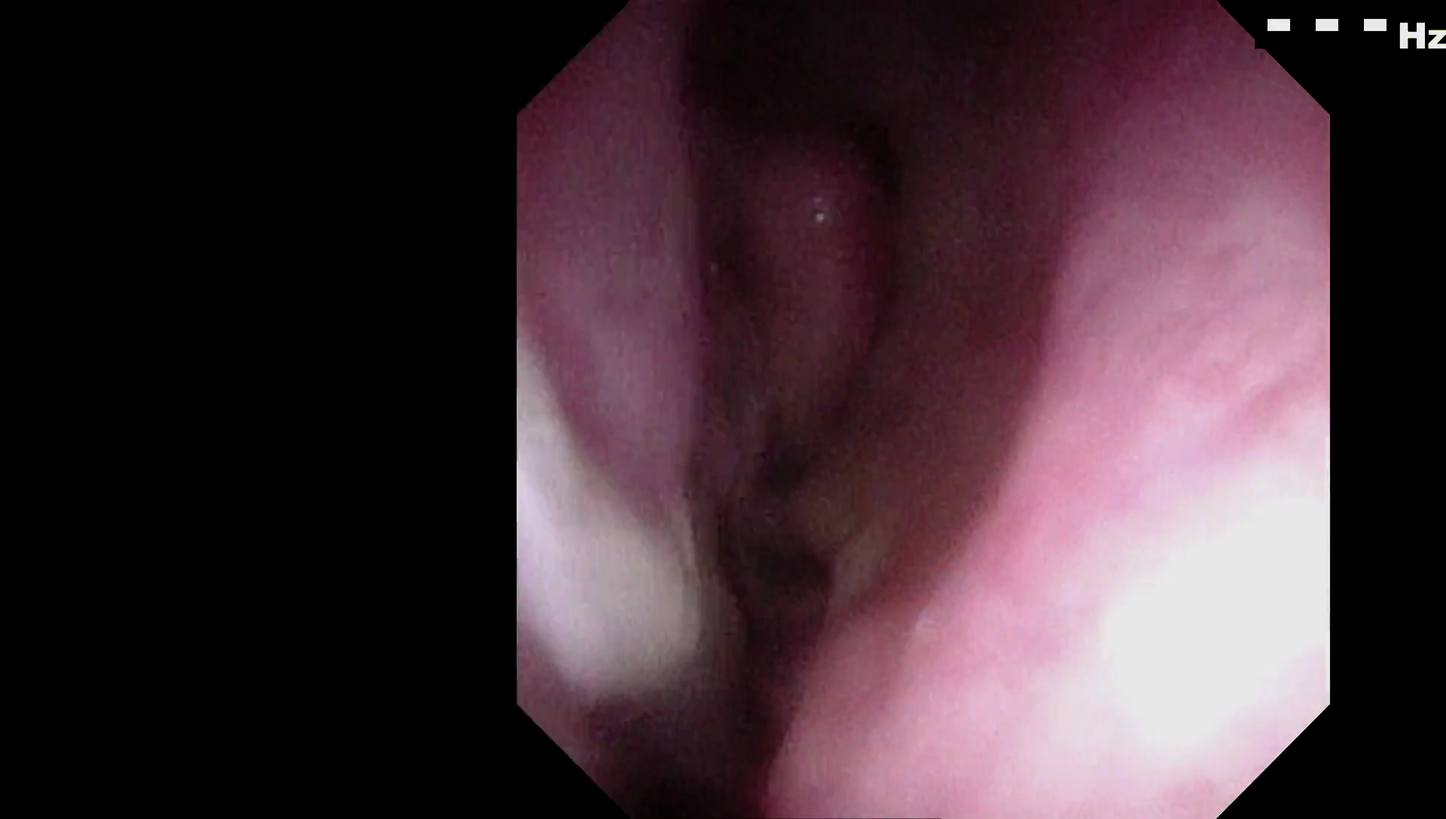close_wall: (867, 346, 1308, 721)
next: (638, 22, 934, 180), (569, 696, 797, 819)
